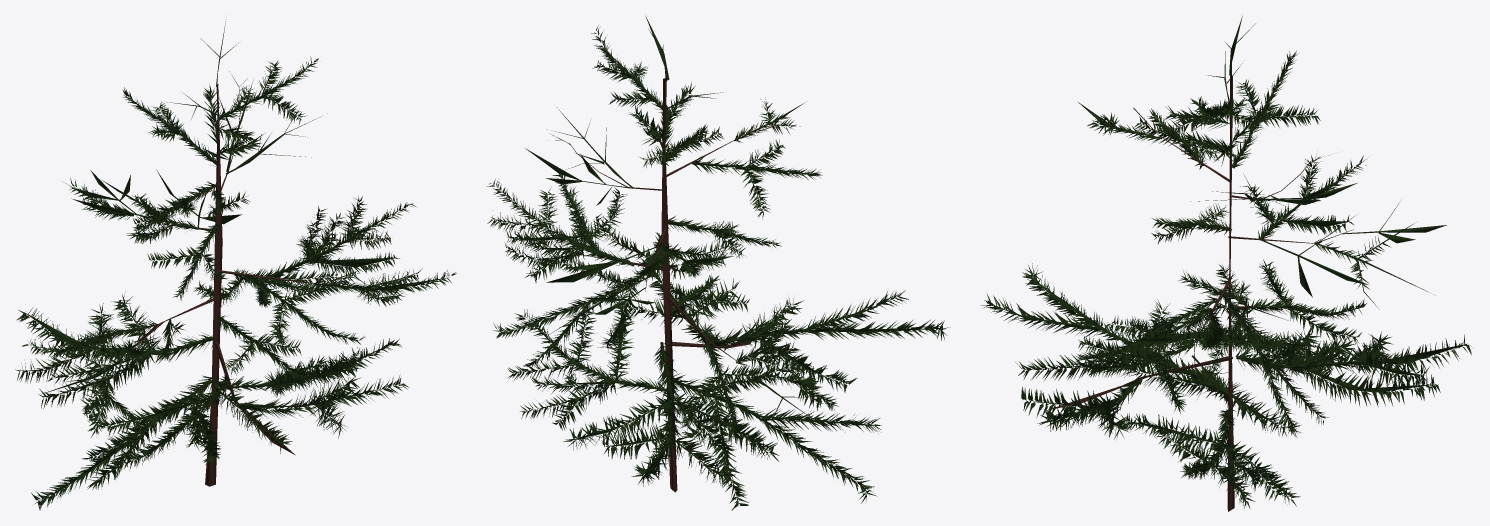
The model's file is sapling_c_lod0.obj.
3 views of the same model, side by side, from view 1: azimuth 30°, elevation 25°; view 2: azimuth 150°, elevation 25°; view 3: azimuth 270°, elevation 25° (orthographic). The views are drawn at different scales.
Parts seen in each view (by area): view 1: sapling_c_lod0; view 2: sapling_c_lod0; view 3: sapling_c_lod0.
Part boxes in pixels (x1=…): sapling_c_lod0: x1=15, y1=19, x2=456, y2=510; sapling_c_lod0: x1=486, y1=16, x2=950, y2=510; sapling_c_lod0: x1=981, y1=16, x2=1473, y2=511.
Size of the model in its own units: 24.49 by 28.25 by 24.96.
